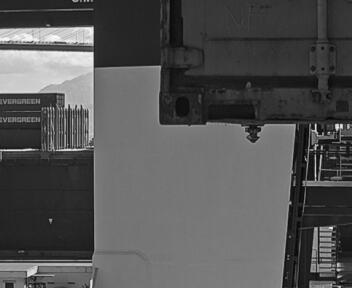twist_lock_2: (257, 120, 288, 147)
